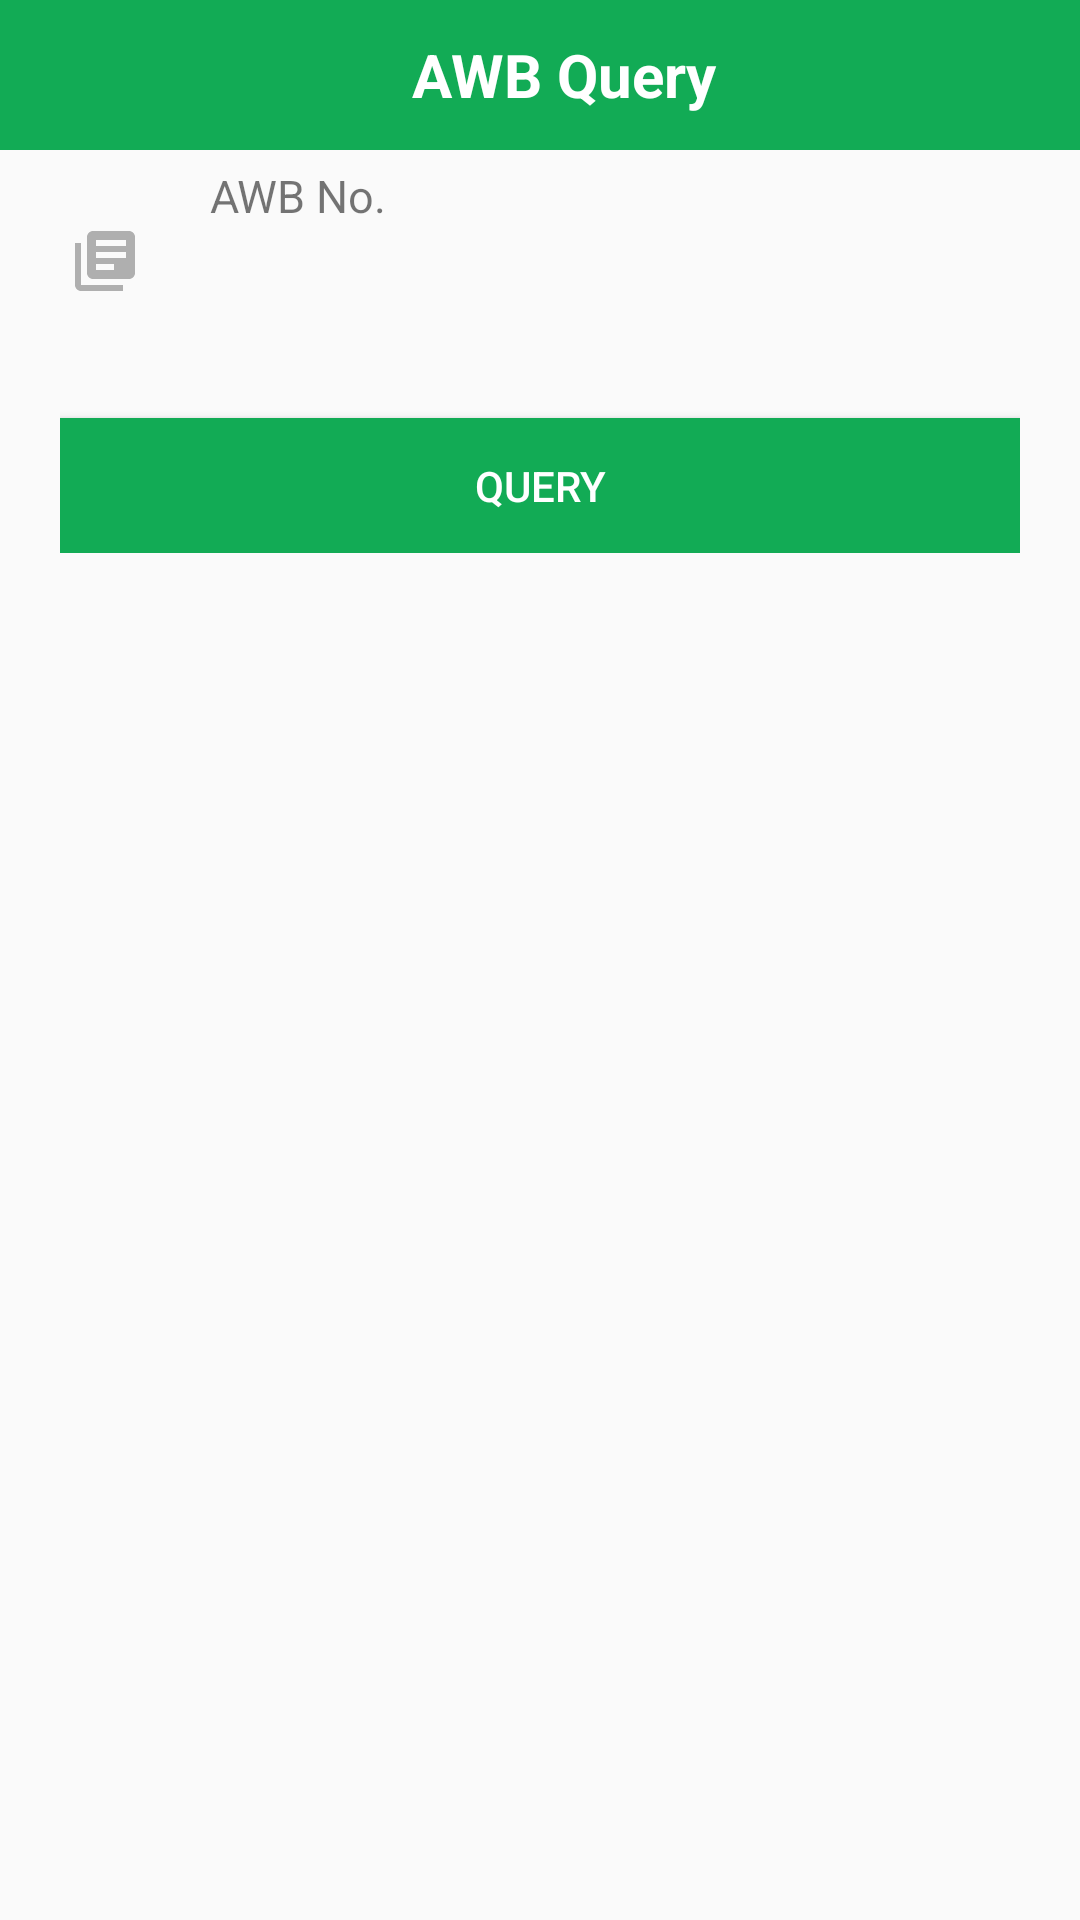

Icon bounding boxes for this 1080 × 1920 phone screenshot, format bbox=[x1, y1, x2, y2]:
rof book from: bbox=[75, 231, 135, 291]
